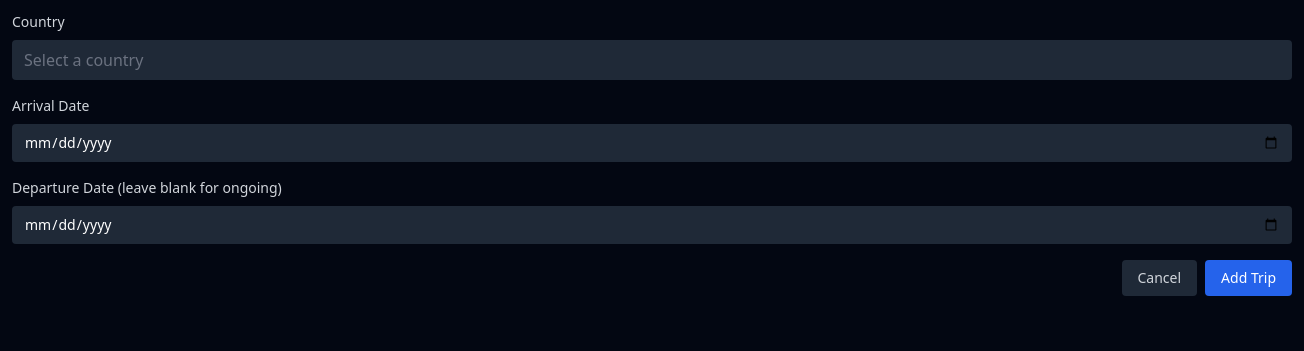
it: TripForm › form submission - error cases › shows validation error from validateTrip when validation fails
This screenshot has width=1304, height=351.
In the field with placeholder "Select a country": (652, 60) [12,40,1292,80], type "France"
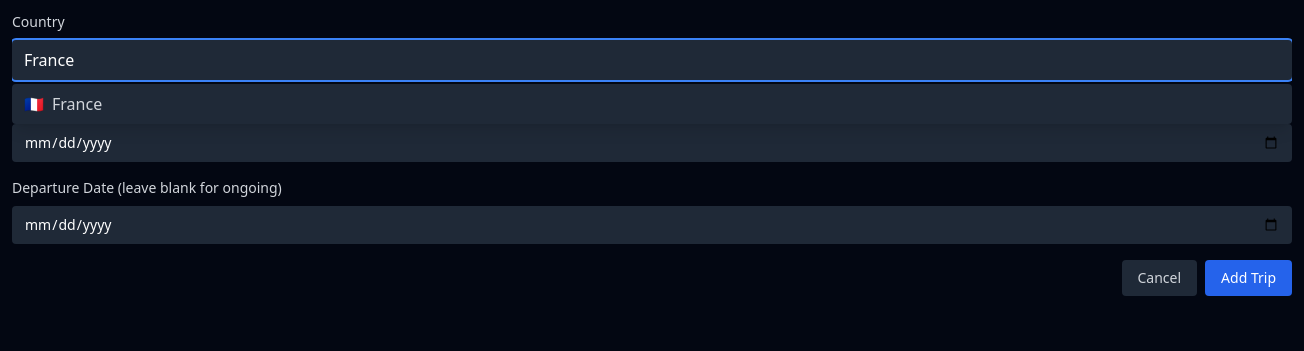
Click the text "France": (77, 104) [52,92,102,116]
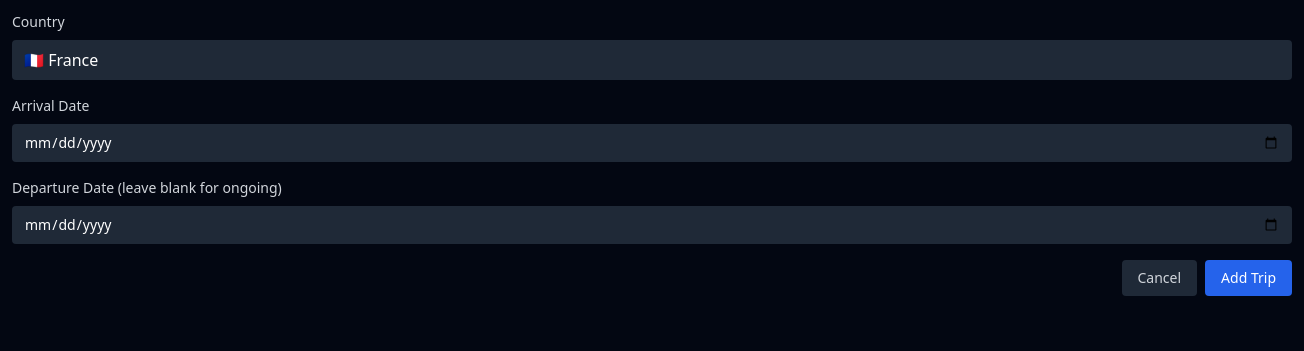
In the date field labelled "Arrival Date": (652, 143) [12,124,1292,162], type "2024-01-01"
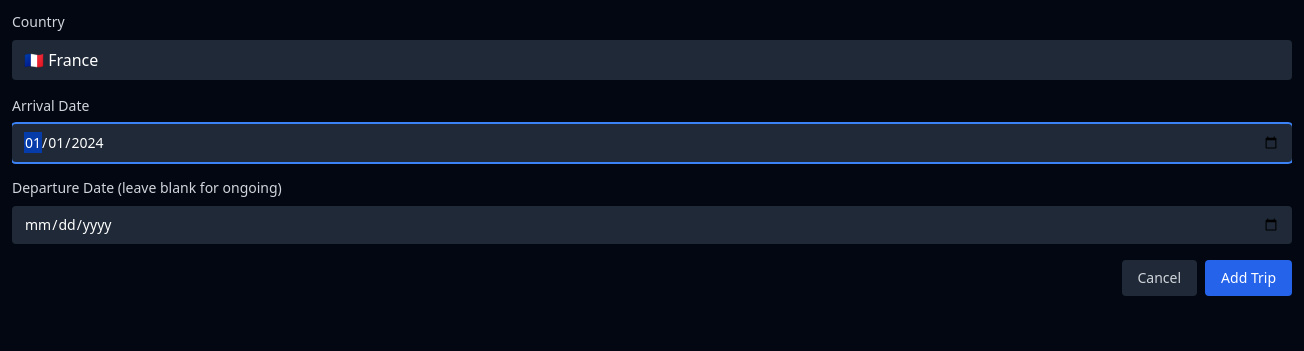
In the date field labelled "Departure Date (leave blank for ongoing)": (652, 225) [12,206,1292,244], type "2024-01-10"
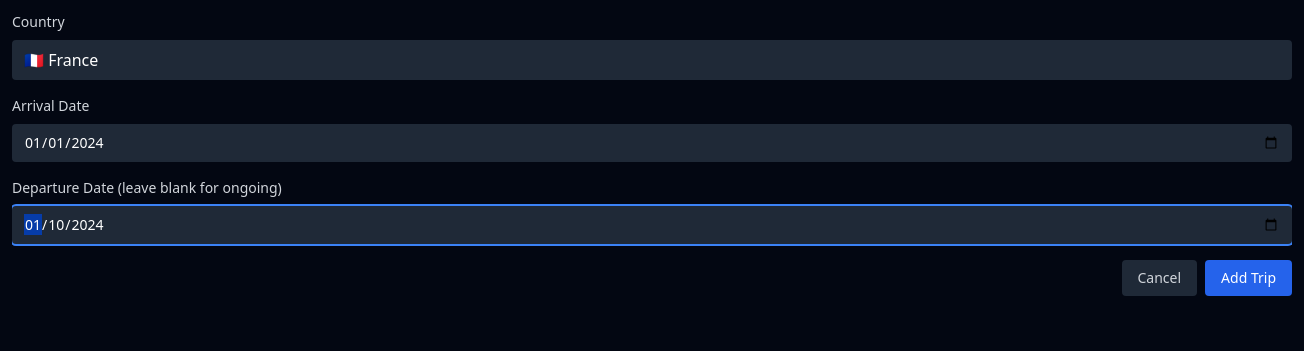
Click the button "Add Trip": (1249, 278) [1205,260,1292,296]
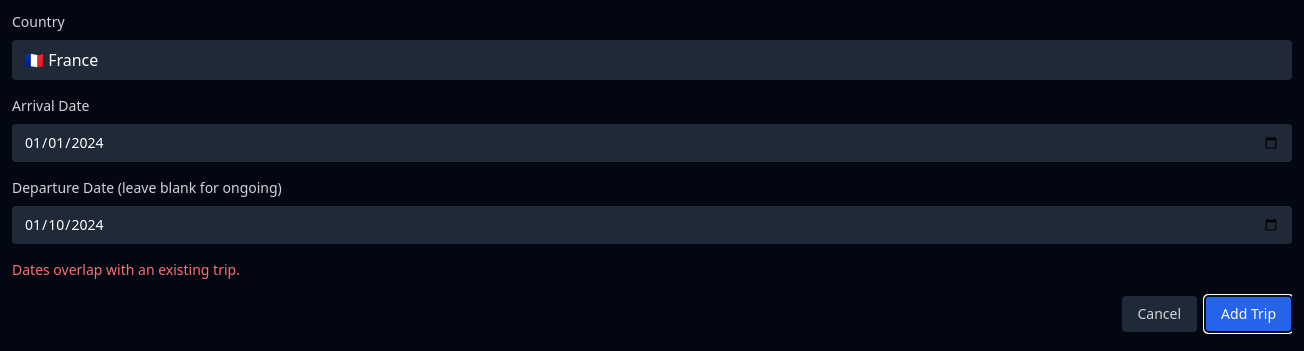
Now the text "Dates overlap with an existing trip." is shown, box [12,260,240,279]
